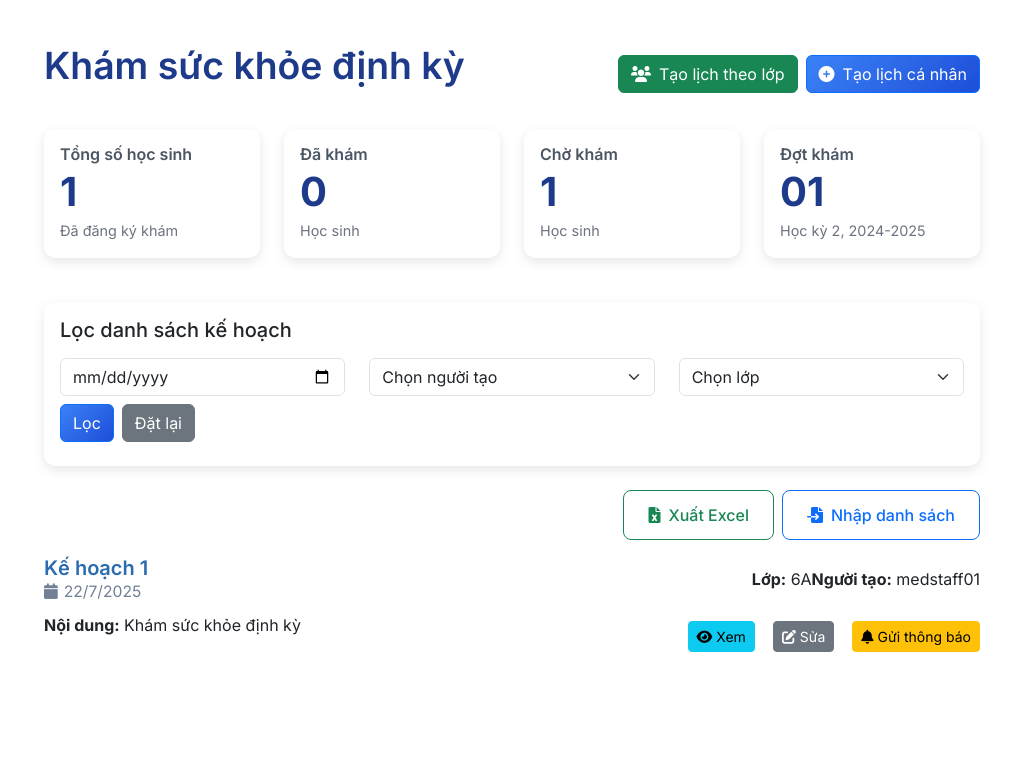
HealthCheckManagement - Branch & Utility Coverage › handleBatchInputChange loads students for class
The width and height of the screenshot is (1024, 768).
Click the button "Tạo lịch theo lớp" at (708, 74), box [618,55,798,93]
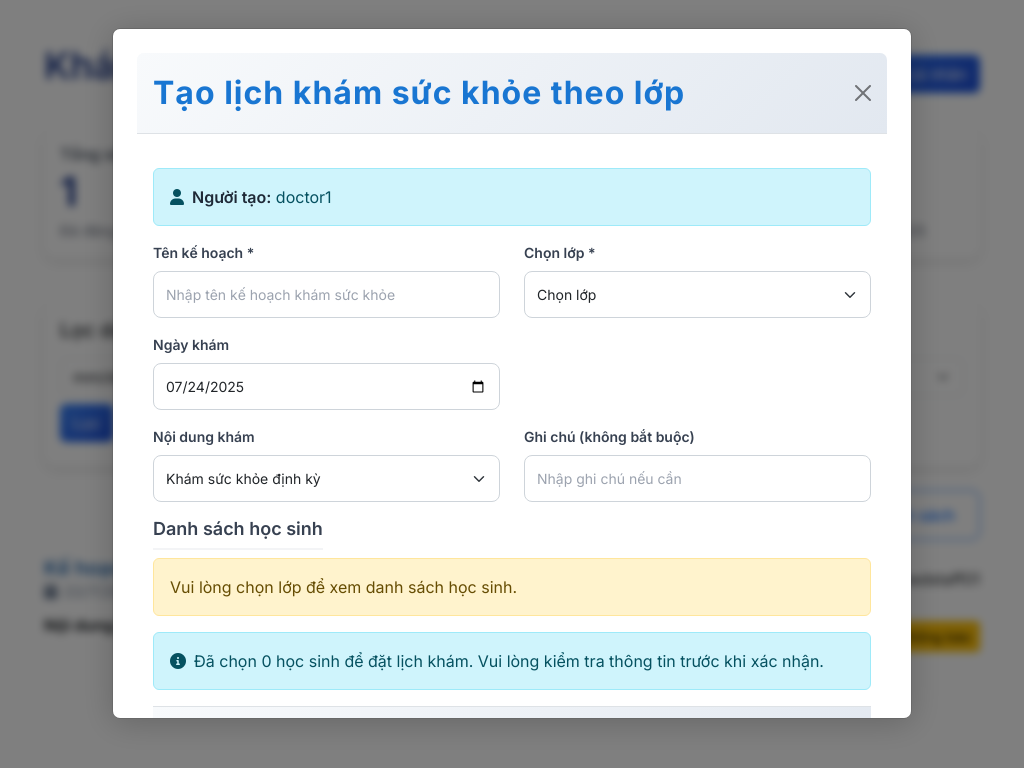
Select "6A" in the dropdown labelled "Chọn lớp *" at (698, 294), box [524,271,871,318]
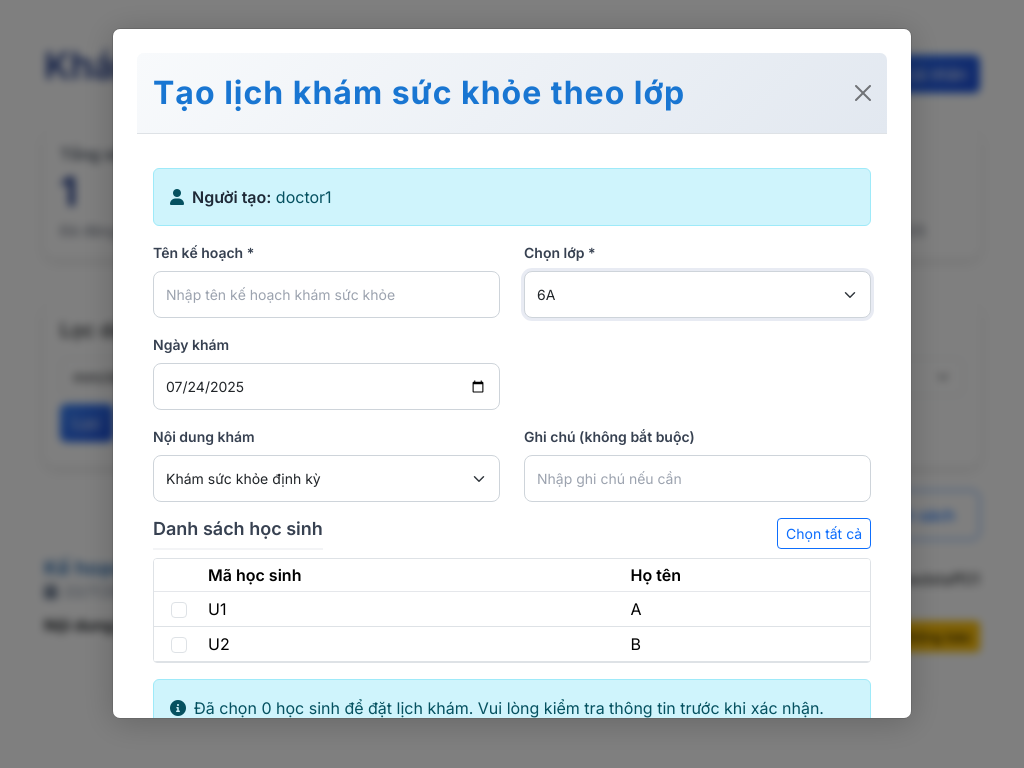
Expected: the text "A" is shown, [626,591,870,626]
Expected: the text "B" is shown, [626,626,870,661]
